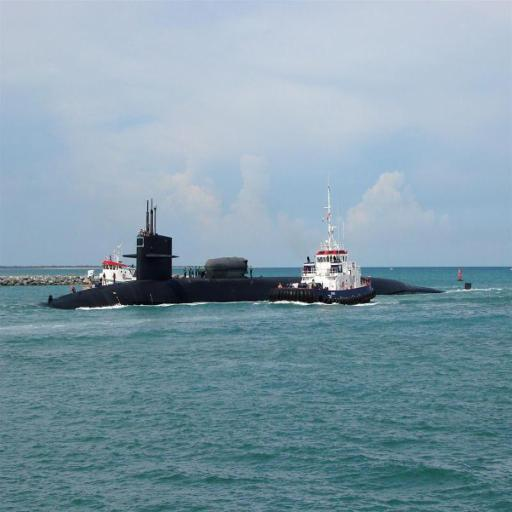submarine: (13, 200, 448, 308)
